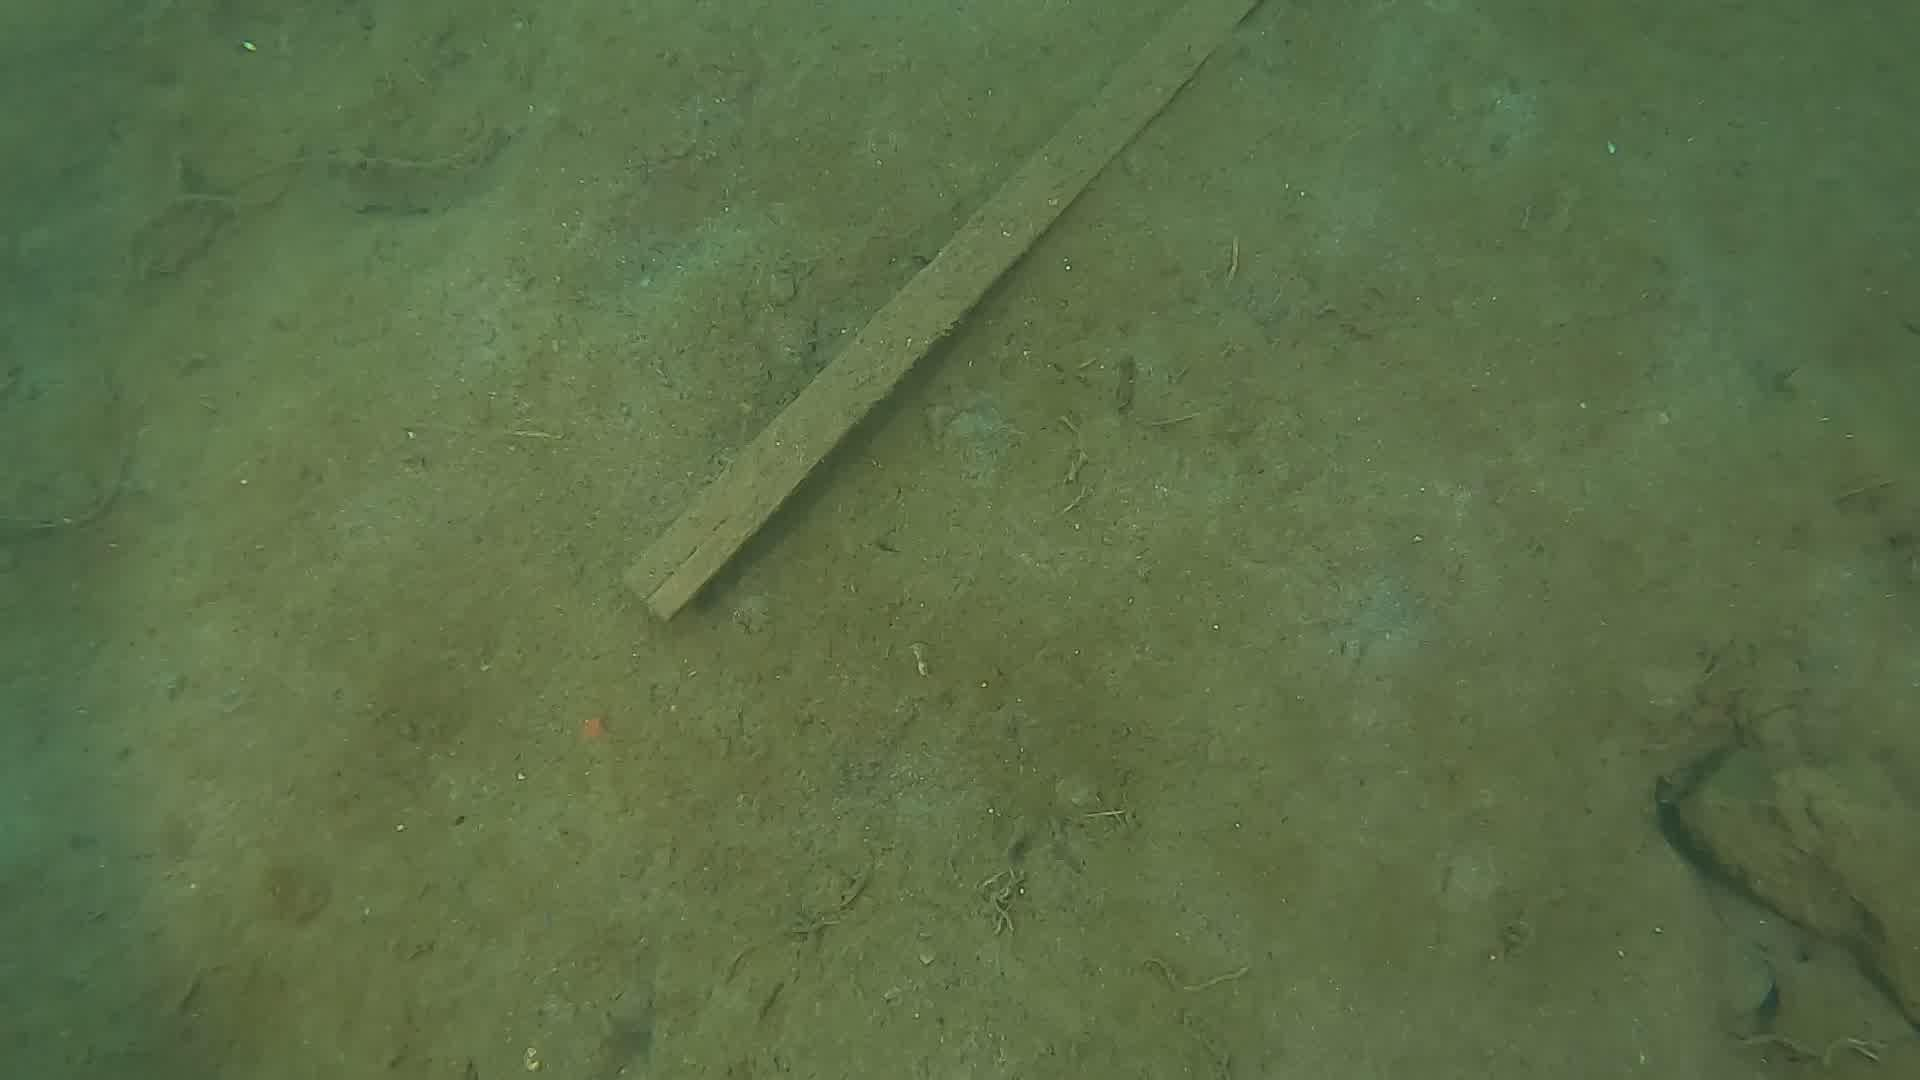wood: (621, 0, 1261, 618)
